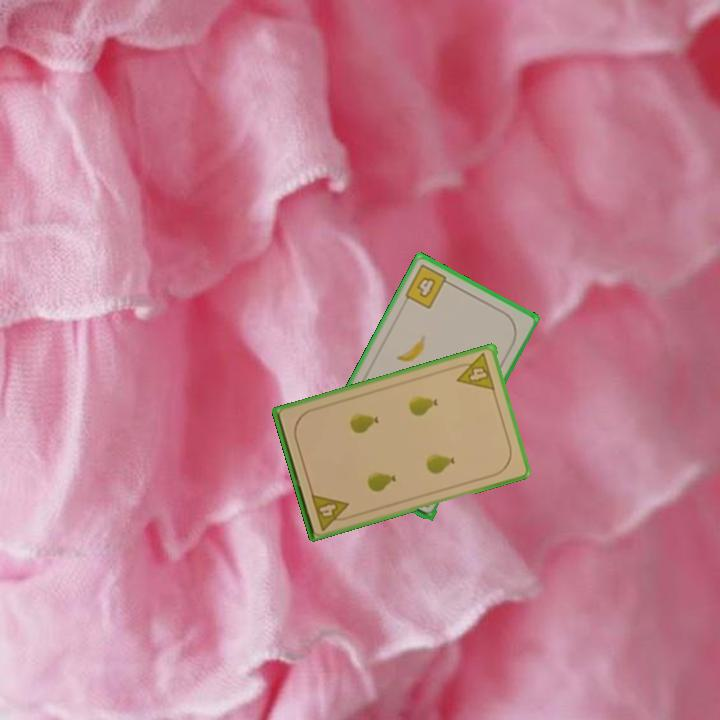4b: (401, 261, 455, 312)
4p: (451, 350, 498, 393), (308, 490, 354, 533)
